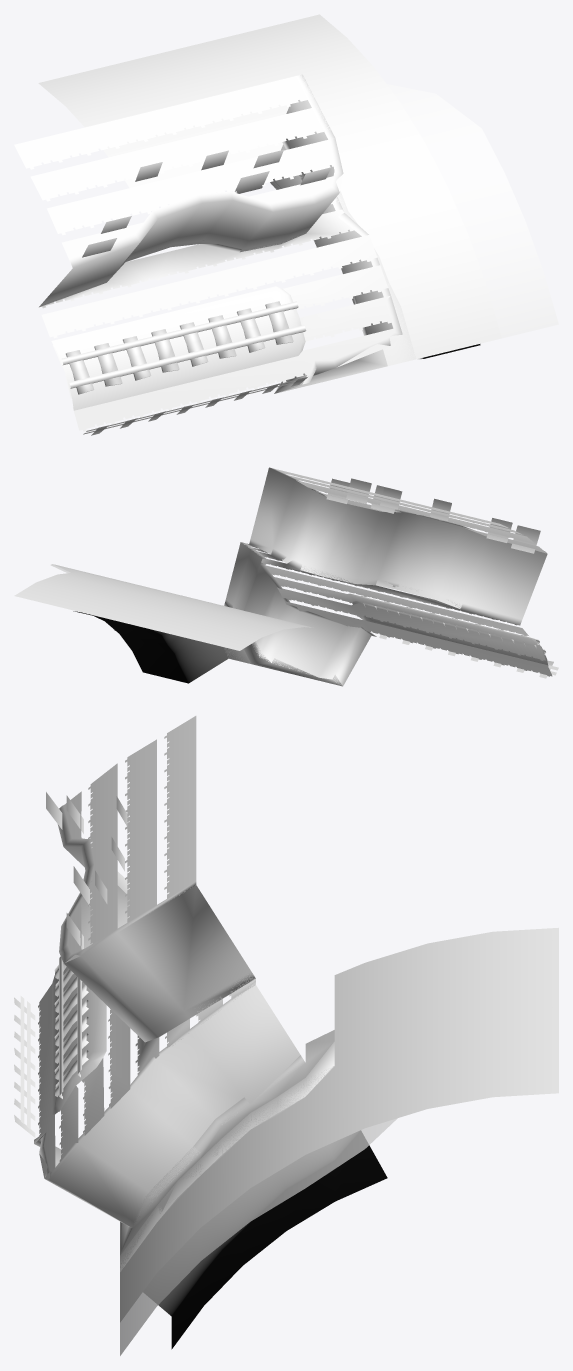
Rendered from grd_Ene_M_0.dae.
The picture shows the model from 3 angles, top to bottom: view 1: azimuth 30°, elevation 25°; view 2: azimuth 150°, elevation 25°; view 3: azimuth 270°, elevation 25°; orthographic projection. The views are drawn at different scales.
Visible parts, largest first — view 1: grd_Ene_M_0; view 2: grd_Ene_M_0; view 3: grd_Ene_M_0.
Part boxes in pixels (left/top/right/bottom): grd_Ene_M_0: left=14, top=14, right=558, bottom=435; grd_Ene_M_0: left=14, top=467, right=558, bottom=686; grd_Ene_M_0: left=14, top=716, right=558, bottom=1355.
Size of the model in its own units: 576 by 326 by 440.
8 materials, 1 textured.
